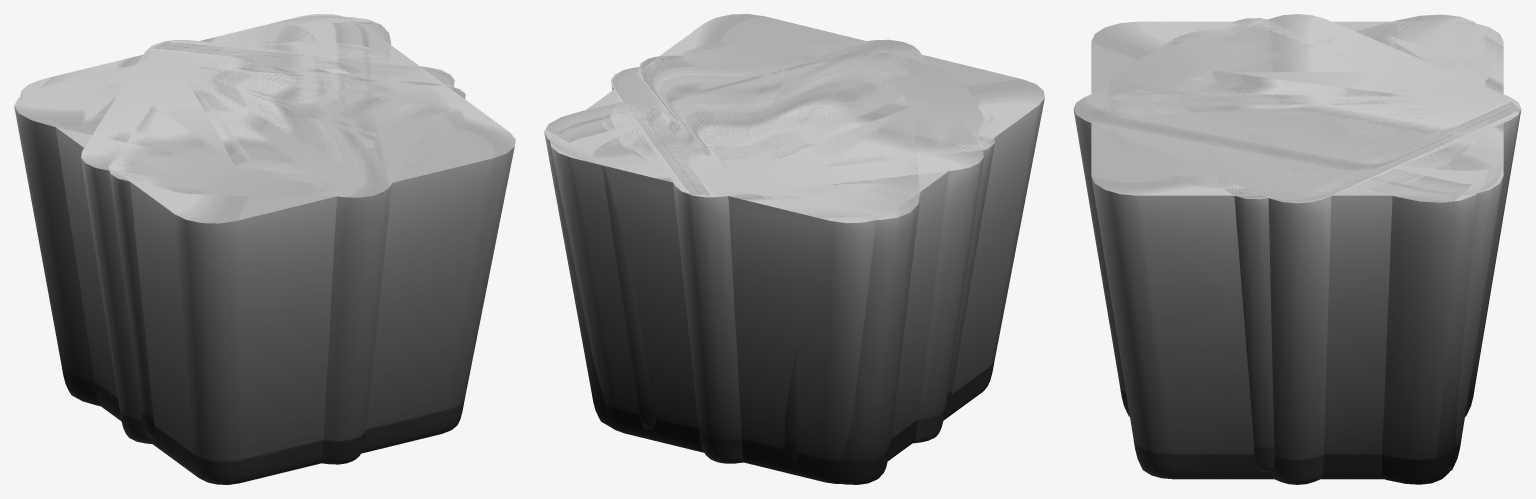
Rendered from SM_Shapes-Hole.fbx.
3 views of the same model, side by side, from view 1: azimuth 30°, elevation 25°; view 2: azimuth 150°, elevation 25°; view 3: azimuth 270°, elevation 25° (orthographic). The views are drawn at different scales.
Parts seen in each view (by area): view 1: Square-Hole, Square-Hole-Cap, Diamond-Hole-Cap, Round-Hole-Cap, Star-Hole-Cap, Diamond-Hole, Triangle-Hole-Cap, Triangle-Hole, Star-Hole, Hexagon-Hole-Cap; view 2: Square-Hole, Square-Hole-Cap, Diamond-Hole-Cap, Round-Hole-Cap, Star-Hole-Cap, Diamond-Hole, Triangle-Hole-Cap, Triangle-Hole, Star-Hole, Hexagon-Hole-Cap; view 3: Square-Hole, Diamond-Hole-Cap, Square-Hole-Cap, Triangle-Hole, Diamond-Hole, Triangle-Hole-Cap, Round-Hole-Cap, Star-Hole-Cap, Star-Hole, Hexagon-Hole-Cap.
Part boxes in pixels (x1=…): Square-Hole: x1=55, y1=127, x2=514, y2=484; Square-Hole-Cap: x1=20, y1=14, x2=515, y2=484; Diamond-Hole-Cap: x1=81, y1=39, x2=454, y2=464; Round-Hole-Cap: x1=86, y1=41, x2=453, y2=196; Star-Hole-Cap: x1=88, y1=23, x2=465, y2=438; Diamond-Hole: x1=81, y1=86, x2=453, y2=464; Triangle-Hole-Cap: x1=14, y1=17, x2=390, y2=403; Triangle-Hole: x1=14, y1=106, x2=100, y2=406; Star-Hole: x1=109, y1=171, x2=154, y2=439; Hexagon-Hole-Cap: x1=81, y1=43, x2=464, y2=194; Square-Hole: x1=551, y1=98, x2=1044, y2=483; Square-Hole-Cap: x1=550, y1=14, x2=1044, y2=483; Diamond-Hole-Cap: x1=611, y1=39, x2=983, y2=463; Round-Hole-Cap: x1=610, y1=41, x2=984, y2=195; Star-Hole-Cap: x1=592, y1=46, x2=994, y2=460; Diamond-Hole: x1=611, y1=86, x2=983, y2=463; Triangle-Hole-Cap: x1=544, y1=51, x2=920, y2=484; Triangle-Hole: x1=544, y1=132, x2=920, y2=484; Star-Hole: x1=602, y1=143, x2=994, y2=462; Hexagon-Hole-Cap: x1=601, y1=43, x2=993, y2=194; Square-Hole: x1=1091, y1=176, x2=1503, y2=479; Diamond-Hole-Cap: x1=1073, y1=14, x2=1521, y2=484; Square-Hole-Cap: x1=1091, y1=21, x2=1503, y2=479; Triangle-Hole: x1=1382, y1=194, x2=1476, y2=484; Diamond-Hole: x1=1074, y1=110, x2=1521, y2=484; Triangle-Hole-Cap: x1=1108, y1=14, x2=1487, y2=484; Round-Hole-Cap: x1=1103, y1=27, x2=1489, y2=191; Star-Hole-Cap: x1=1091, y1=18, x2=1503, y2=471; Star-Hole: x1=1234, y1=196, x2=1274, y2=471; Hexagon-Hole-Cap: x1=1089, y1=28, x2=1500, y2=188.
Bounding box in the file's own units: 63.61 × 47.85 × 63.61.
